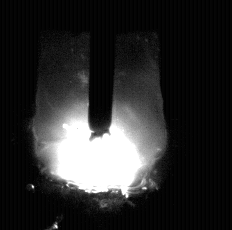arame: (89, 0, 114, 141)
poca: (32, 0, 169, 230)
